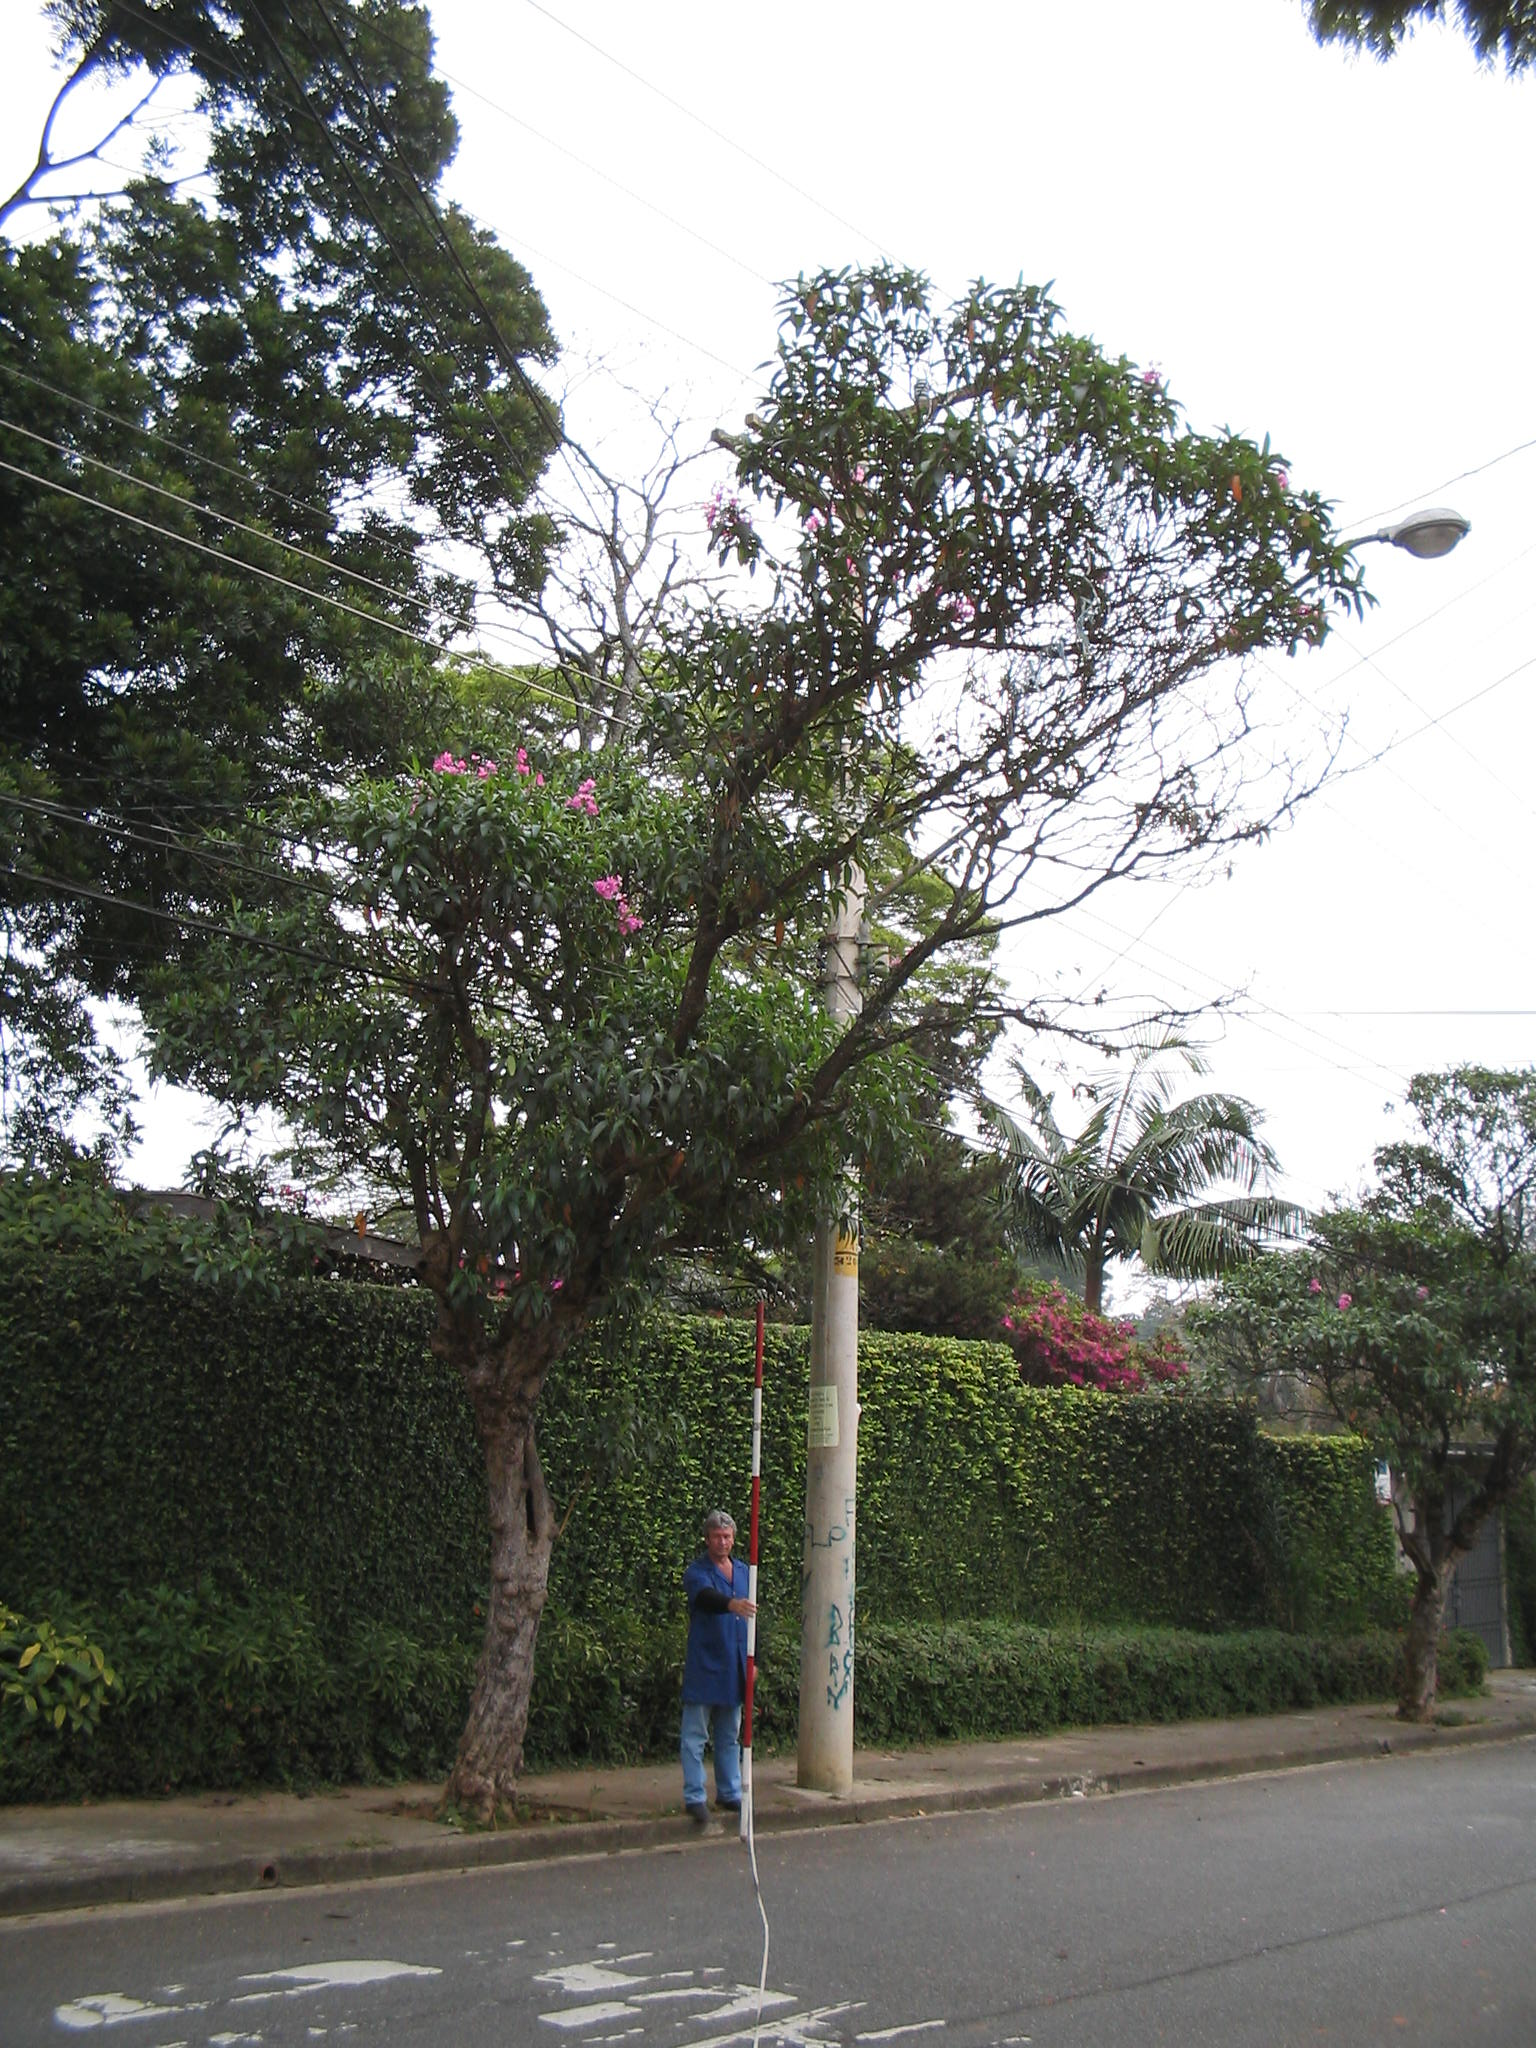crown: (323, 268, 1370, 1379), (1204, 1211, 1517, 1540)
stem: (382, 1367, 600, 1813), (1371, 1561, 1471, 1721)
stick: (695, 1303, 812, 1842)
tree: (315, 258, 1379, 1816), (1196, 1208, 1528, 1725)
